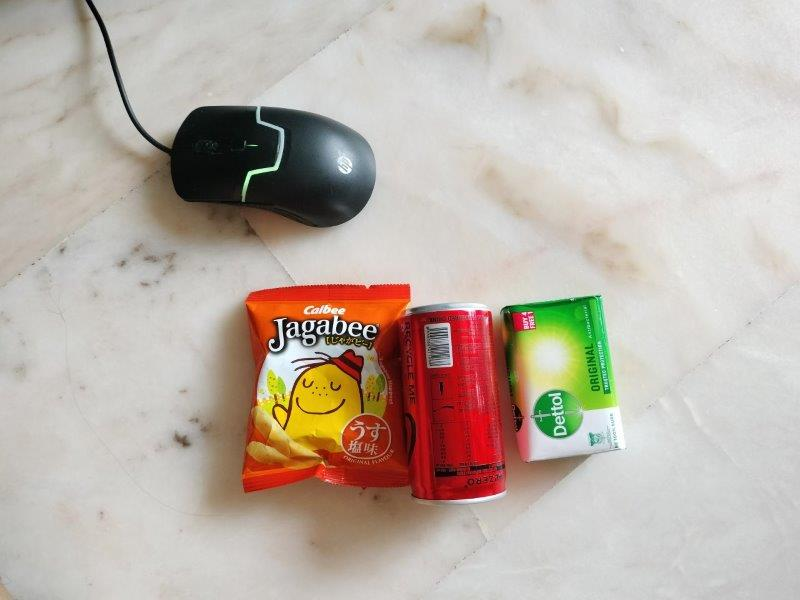Coke: (400, 305, 511, 505)
Dettol: (504, 298, 623, 463)
Jagabee: (243, 285, 409, 493)
